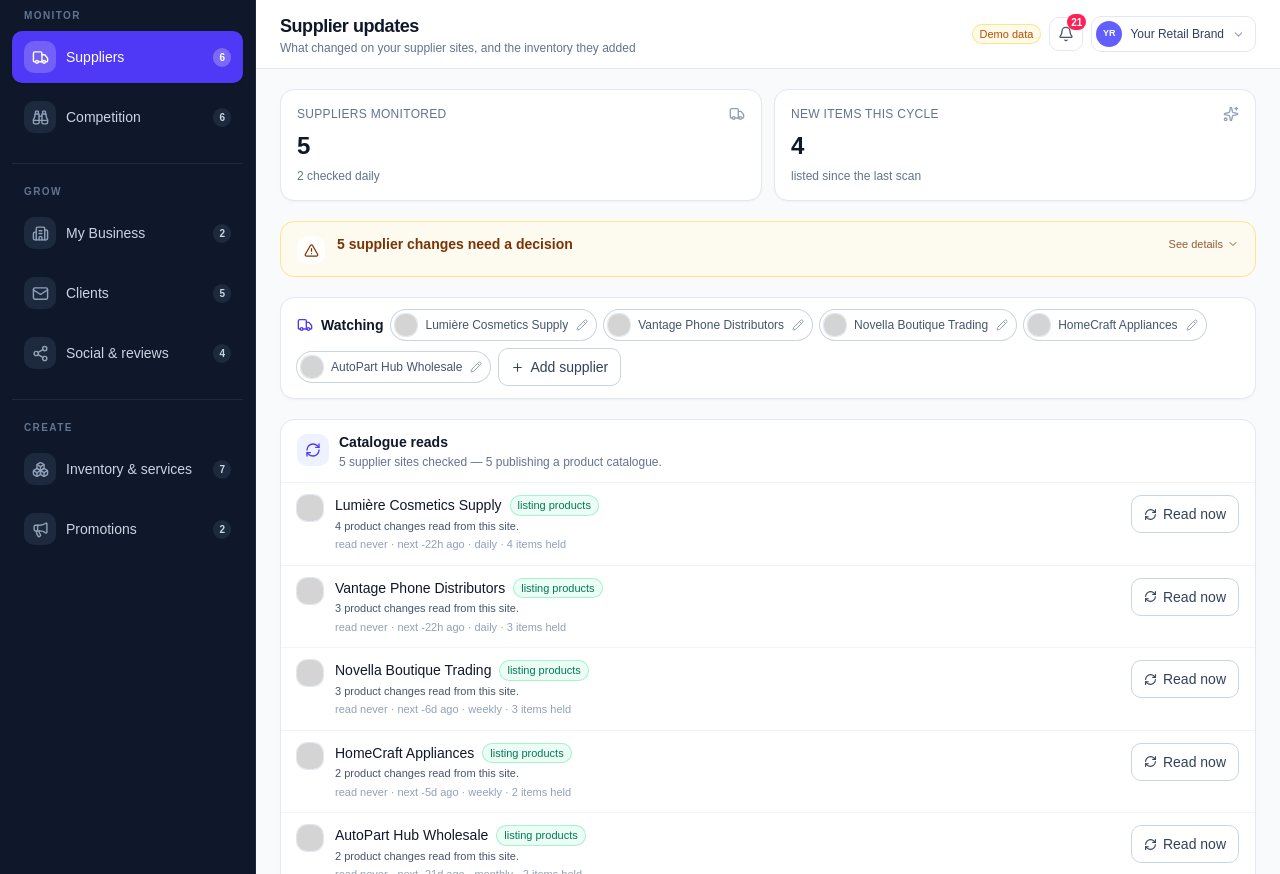
Scenario: Market Watch app › drafts a review reply with AI without sending it
Step 1. Click the button "Social & reviews 4" → (128, 353), box [12, 327, 243, 379]
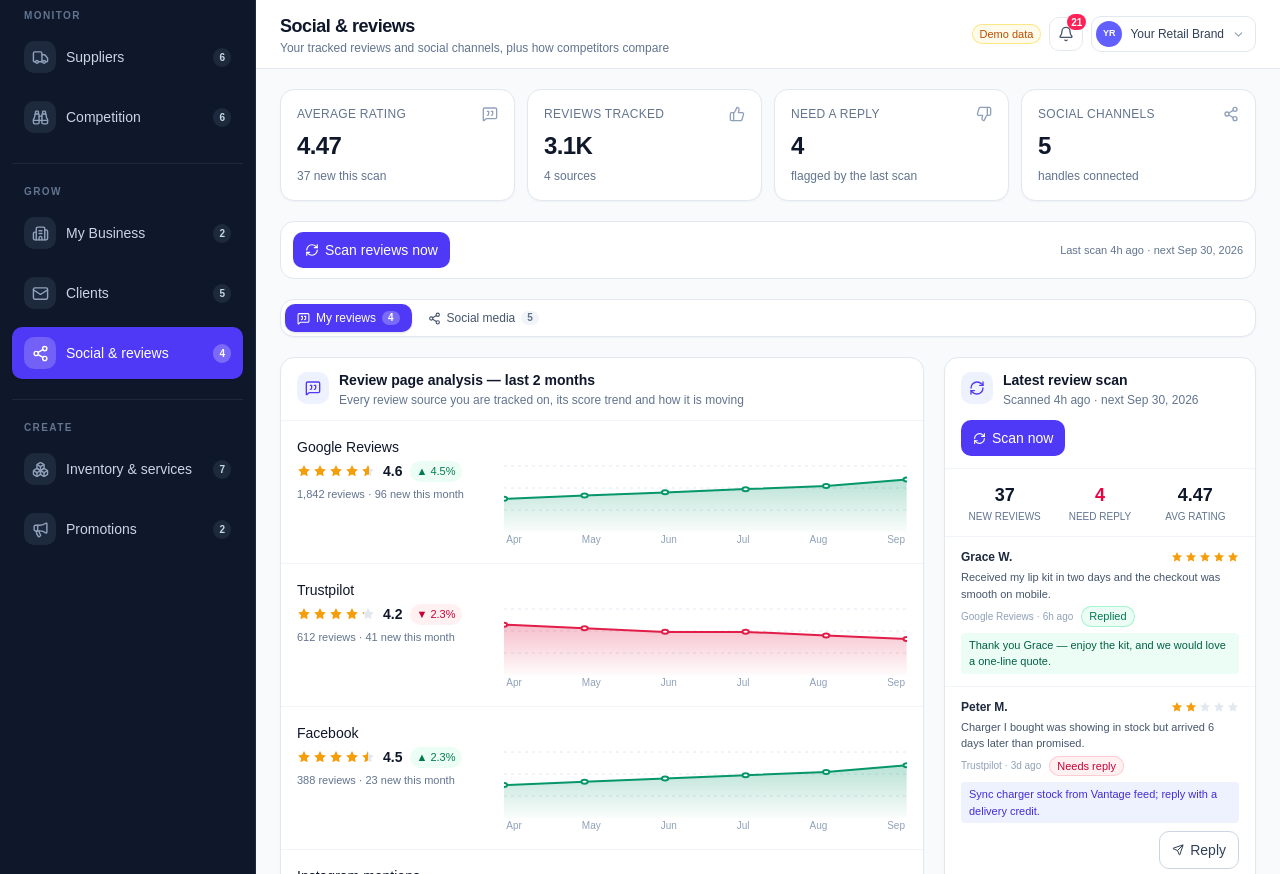
Step 2. Click the button "Reply" → (1199, 850), box [1159, 831, 1239, 869]
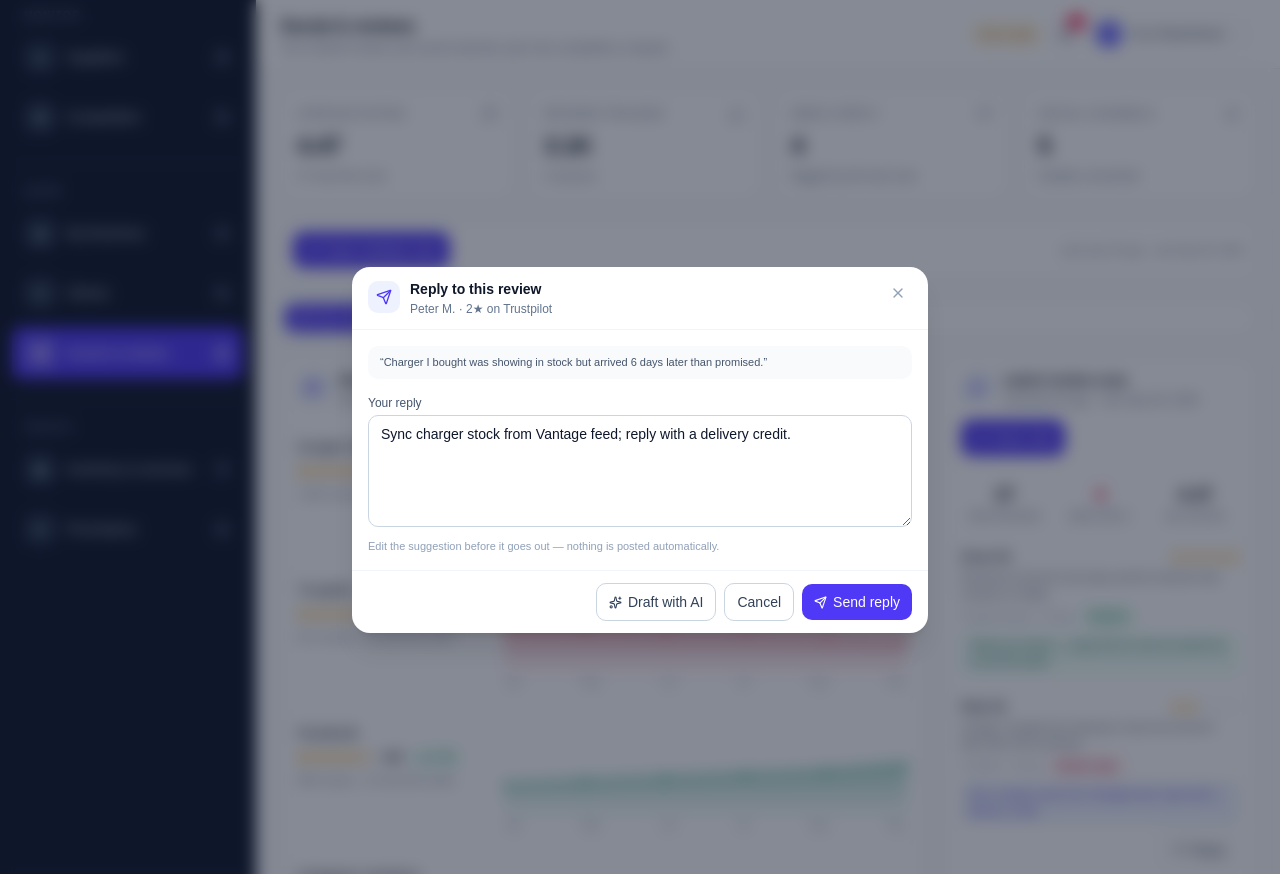
Step 3. Click the button "Draft with AI" → (656, 602), box [596, 583, 716, 621]
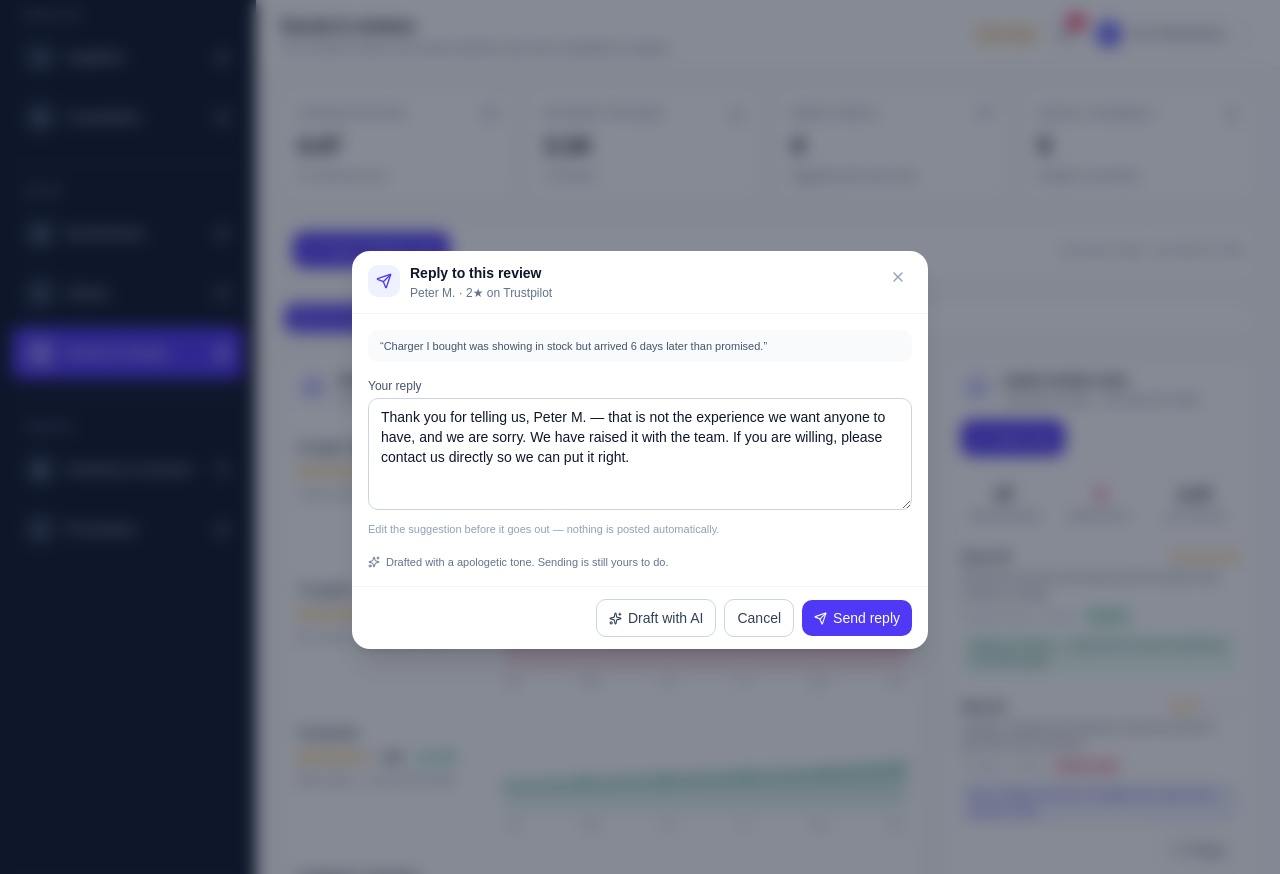
Check: the text box does not hold "Sync charger stock from Vantage feed; reply with a delivery credit.", box [368, 398, 912, 510]
Check: the dialog shows "Sending is still yours to do", box [507, 556, 668, 568]
